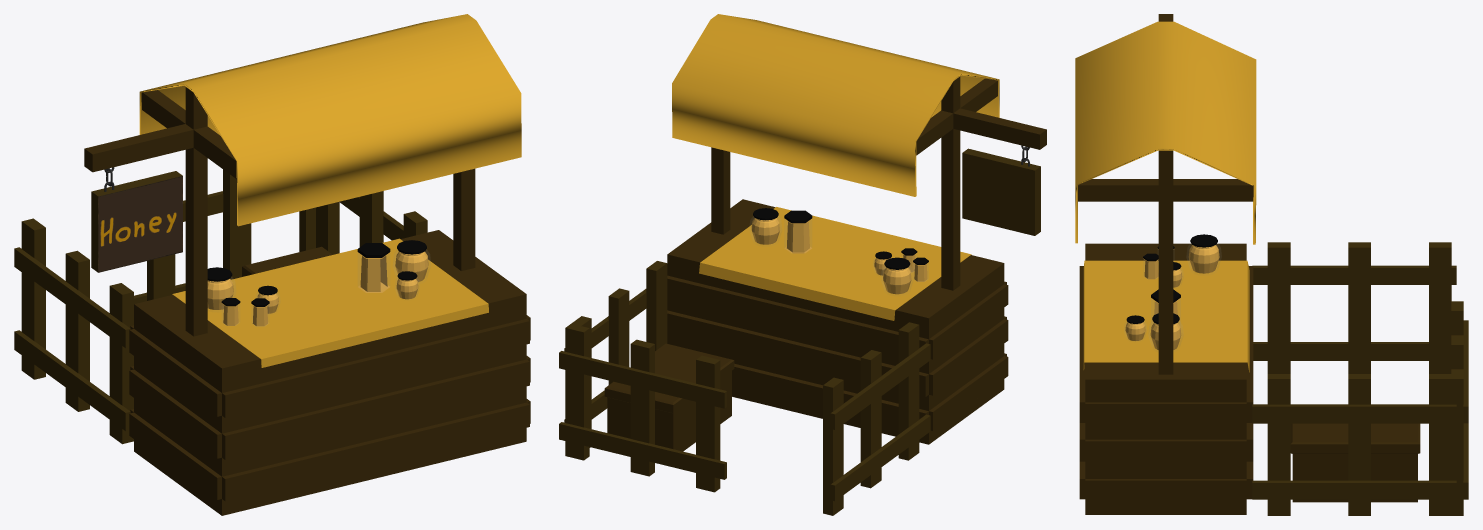
The model's file is honey_stall.glb.
3 renders of one model, left to right at view 1: azimuth 30°, elevation 25°; view 2: azimuth 150°, elevation 25°; view 3: azimuth 270°, elevation 25°, orthographic. The views are drawn at different scales.
Visible parts, largest first — view 1: Cube_1, Cube.013_5, Cube.014_6, Cube.008_3, Cube.011_4, Cube.004_19, Cube.001_8, Cube.003_2, Cube.015_7, Cylinder.004_13, Cylinder_9, Cube.002_12 (+1 smaller); view 2: Cube_1, Cube.013_5, Cube.001_8, Cube.014_6, Cube.008_3, Cube.011_4, Cube.004_19, Cube.002_12, Cube.003_2, Cube.015_7, Cylinder.004_13, Cylinder.001_10 (+1 smaller); view 3: Cube_1, Cube.013_5, Cube.003_2, Cube.008_3, Cube.014_6, Cube.015_7, Cube.002_12, Cube.001_8, Cylinder.001_10, Cylinder_9, Cylinder.002_11.
Boxes of the visible parts, x1,y1,x2,y2 form: Cube_1: [129, 230, 530, 515]; Cube.013_5: [139, 14, 521, 226]; Cube.014_6: [172, 238, 488, 367]; Cube.008_3: [14, 218, 133, 444]; Cube.011_4: [84, 87, 236, 336]; Cube.004_19: [91, 171, 182, 272]; Cube.001_8: [134, 169, 315, 303]; Cube.003_2: [316, 191, 427, 254]; Cube.015_7: [453, 168, 475, 270]; Cylinder.004_13: [357, 243, 390, 292]; Cylinder_9: [395, 240, 428, 282]; Cube.002_12: [242, 246, 332, 276]; Cube_1: [667, 199, 1008, 444]; Cube.013_5: [672, 14, 999, 196]; Cube.001_8: [559, 323, 726, 492]; Cube.014_6: [699, 207, 971, 320]; Cube.008_3: [823, 322, 930, 515]; Cube.011_4: [916, 76, 1046, 290]; Cube.004_19: [962, 148, 1040, 235]; Cube.002_12: [604, 343, 734, 451]; Cube.003_2: [564, 261, 667, 447]; Cube.015_7: [711, 147, 730, 234]; Cylinder.004_13: [784, 210, 812, 253]; Cylinder.001_10: [883, 257, 911, 294]; Cube_1: [1079, 243, 1253, 514]; Cube.013_5: [1075, 21, 1256, 244]; Cube.003_2: [1252, 374, 1456, 515]; Cube.008_3: [1252, 242, 1456, 373]; Cube.014_6: [1083, 260, 1249, 372]; Cube.015_7: [1078, 150, 1253, 374]; Cube.002_12: [1290, 423, 1420, 502]; Cube.001_8: [1451, 301, 1468, 515]; Cylinder.001_10: [1188, 234, 1219, 273]; Cylinder_9: [1150, 313, 1181, 349]; Cylinder.002_11: [1125, 315, 1145, 341].
Size of the model in its own units: 2.62 by 2.48 by 2.44.
Materials: 8 (1 with a texture image).
